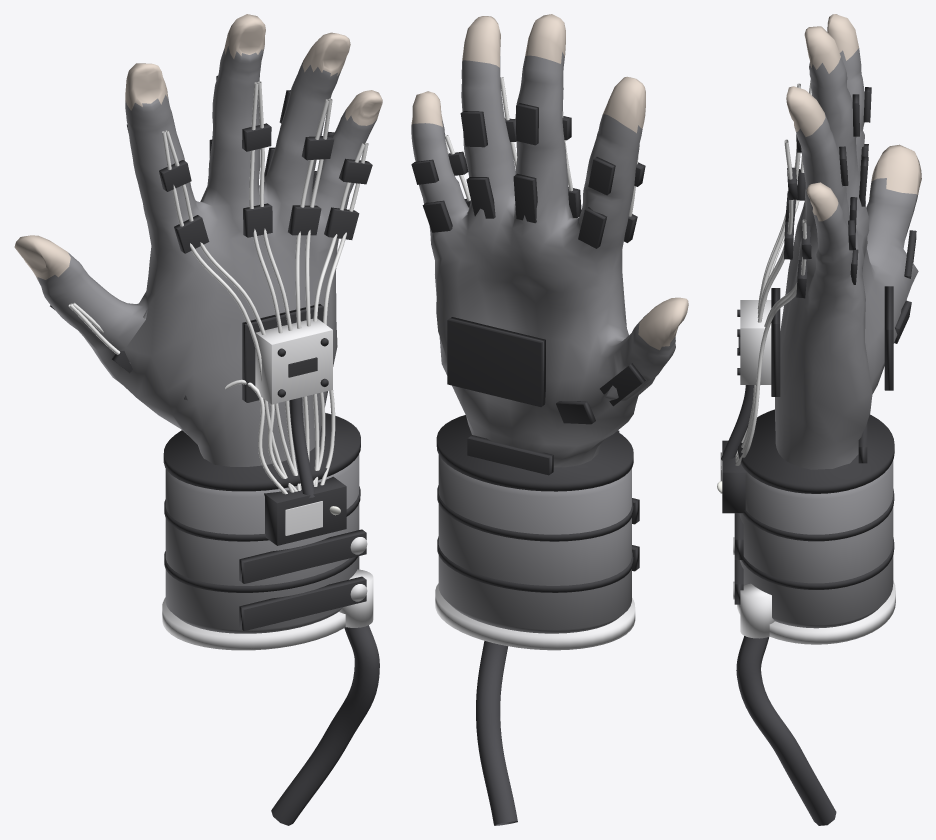
File: data-glove.glb
3 views of the same model, side by side, from view 1: azimuth 30°, elevation 25°; view 2: azimuth 150°, elevation 25°; view 3: azimuth 270°, elevation 25° (orthographic). The views are drawn at different scales.
Visible parts, largest first — view 1: Glove, Cuff, MainCable, TopRim, Tracker, Rim, Strap, Junction, Strap.001, TrackerBase, PalmRib, Fibre_2-1 (+18 smaller); view 2: Glove, Cuff, PalmPad, TopRim, MainCable, Rim, HeelPad, PalmRib.001, PalmRib, Pad_30, Pad_31, Pad_40 (+7 smaller); view 3: Glove, Cuff, TopRim, MainCable, Rim, Tracker, Connector, Junction, PalmRib.001, PalmRib, PalmPad, Fibre_51 (+5 smaller).
Part boxes in pixels (<box>): Glove: <box>14,14,382,466</box>; Cuff: <box>165,454,359,633</box>; MainCable: <box>271,625,379,825</box>; TopRim: <box>163,413,360,491</box>; Tracker: <box>255,318,332,404</box>; Rim: <box>162,597,345,650</box>; Strap: <box>239,576,366,630</box>; Junction: <box>264,476,346,545</box>; Strap.001: <box>239,529,366,583</box>; TrackerBase: <box>242,304,323,402</box>; PalmRib: <box>164,551,358,592</box>; Fibre_2-1: <box>162,131,294,492</box>; Glove: <box>411,14,688,467</box>; Cuff: <box>438,455,631,633</box>; PalmPad: <box>447,317,545,406</box>; TopRim: <box>436,415,633,491</box>; MainCable: <box>476,641,517,825</box>; Rim: <box>435,583,635,650</box>; HeelPad: <box>467,435,553,475</box>; PalmRib.001: <box>437,485,633,541</box>; PalmRib: <box>437,536,633,592</box>; Pad_30: <box>513,173,537,223</box>; Pad_31: <box>516,103,538,145</box>; Pad_40: <box>466,177,495,218</box>; Glove: <box>775,14,921,469</box>; Cuff: <box>739,460,893,628</box>; TopRim: <box>738,409,894,493</box>; MainCable: <box>736,636,836,825</box>; Rim: <box>737,580,895,644</box>; Tracker: <box>740,300,771,384</box>; Connector: <box>740,583,774,638</box>; Junction: <box>722,440,747,513</box>; PalmRib.001: <box>742,489,894,541</box>; PalmRib: <box>741,537,894,589</box>; PalmPad: <box>884,286,893,390</box>; Fibre_51: <box>735,221,806,465</box>.
Bounding box in the file's own units: 0.1546 × 0.3829 × 0.0916.
